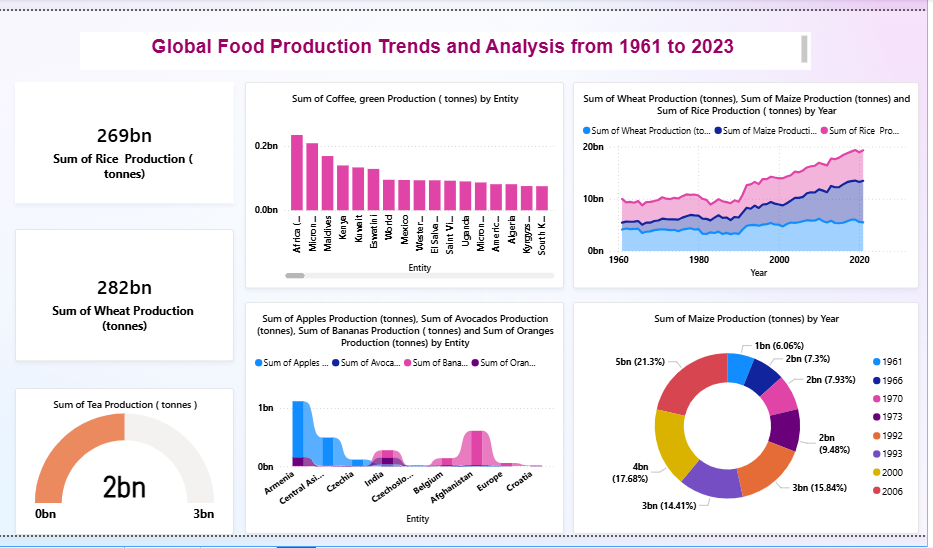

The page's visual inventory and layout, read from the dashboard file:
{"tool":"powerbi","page":{"name":"Page 1","canvas":[1280,720],"ordinal":0},"visuals":[{"type":"card","fields":{"Values":["Sum(world food production.Rice  Production ( tonnes))"]},"box":[24.8,97.7,301.4,166.5],"z":0},{"type":"card","fields":{"Values":["Sum(world food production.Wheat Production (tonnes))"]},"box":[24.8,300,301.4,181.7],"z":1000},{"type":"gauge","fields":{"Y":["Sum(world food production.Tea  Production ( tonnes ))"]},"box":[24.8,518.9,301.4,202.3],"z":2000},{"type":"lineStackedColumnComboChart","fields":{"Category":["world food production.Entity"],"Y":["Sum(world food production.Coffee, green Production ( tonnes))"]},"box":[341.3,97.7,439.1,283.5],"z":3000},{"type":"stackedAreaChart","fields":{"Category":["world food production.Year"],"Y":["Sum(world food production.Wheat Production (tonnes))","Sum(world food production.Maize Production (tonnes))","Sum(world food production.Rice  Production ( tonnes))"]},"box":[792.8,97.7,476.2,283.5],"z":4000},{"type":"ribbonChart","fields":{"Category":["world food production.Entity"],"Y":["Sum(world food production.Apples Production (tonnes))","Sum(world food production.Avocados Production (tonnes))","Sum(world food production.Bananas  Production ( tonnes))","Sum(world food production.Oranges  Production (tonnes))"]},"box":[341.3,400.5,439.1,319.3],"z":5000},{"type":"donutChart","fields":{"Y":["Sum(world food production.Maize Production (tonnes))"],"Series":["world food production.Year"]},"box":[793,401,476,319],"z":6000},{"type":"textbox","box":[114.2,28.9,1006.1,52.3],"z":7000}]}

Visuals, with their boxes on the page's 1280x720 design canvas (x1, y1, x2, y2). These are canvas units, not pixel positions in the 933x548 screenshot, which may show the page scaled, cropped or inside an application window:
card - Sum(world food production.Rice  Production ( tonnes)): (25,98,326,264)
card - Sum(world food production.Wheat Production (tonnes)): (25,300,326,482)
gauge - Sum(world food production.Tea  Production ( tonnes )): (25,519,326,721)
lineStackedColumnComboChart - world food production.Entity x Sum(world food production.Coffee, green Production ( tonnes)): (341,98,780,381)
stackedAreaChart - world food production.Year x Sum(world food production.Wheat Production (tonnes)): (793,98,1269,381)
ribbonChart - world food production.Entity x Sum(world food production.Apples Production (tonnes)): (341,400,780,720)
donutChart - Sum(world food production.Maize Production (tonnes)) x world food production.Year: (793,401,1269,720)
textbox: (114,29,1120,81)
